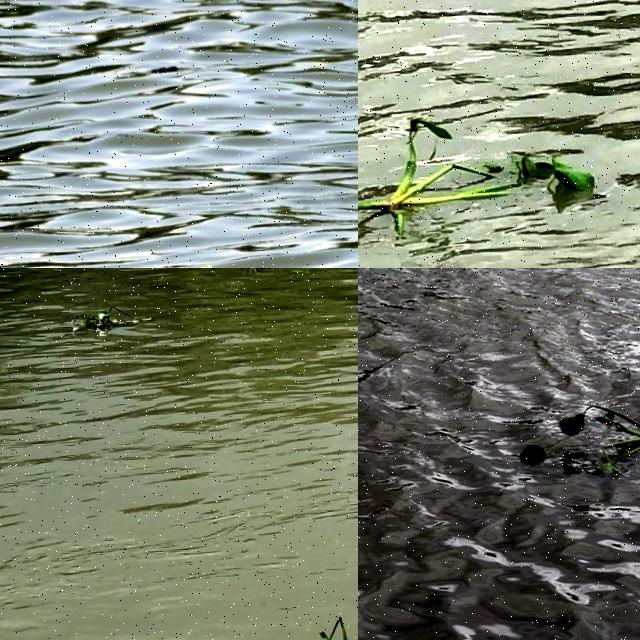water-hyacinth: (359, 104, 614, 257), (524, 402, 640, 475)
